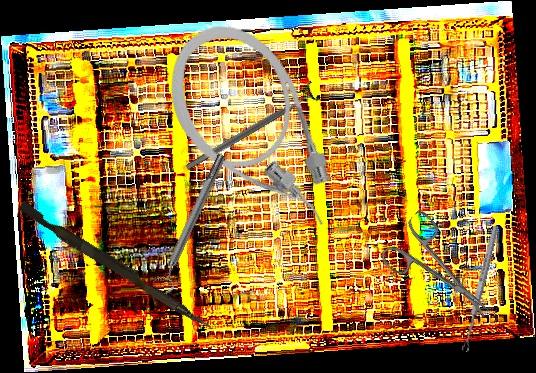Cannula: (145, 3, 359, 262)
Fixation Ring: (180, 79, 323, 178), (149, 150, 234, 296)
Iris Scissors: (375, 208, 508, 339)
Pusher: (15, 200, 217, 332)
Surgical Spoon: (460, 224, 500, 353)
